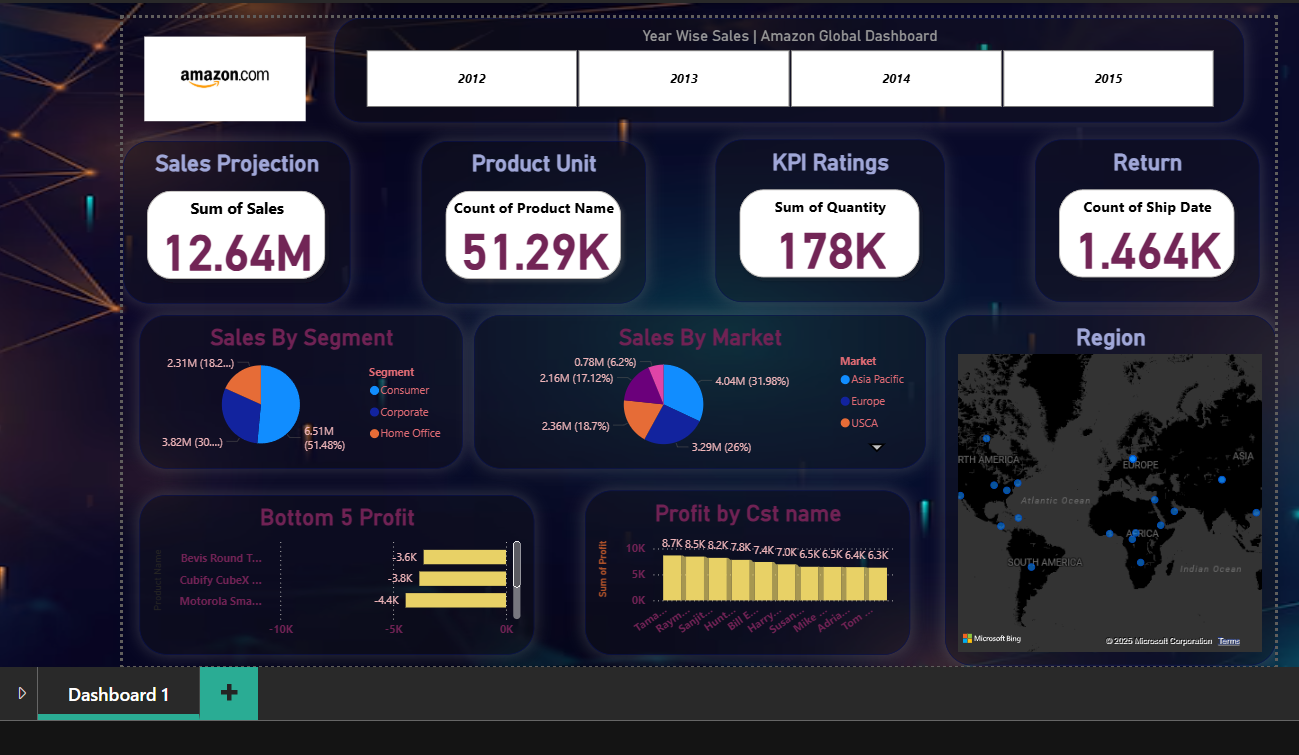

The dashboard page shown, as its layout file describes it:
{"tool":"powerbi","page":{"name":"Dashboard 1","canvas":[1280,720],"ordinal":0},"visuals":[{"type":"slicer","title":"Year Wise Sales | Amazon Global Dashboard ","fields":{"Values":["Orders.Year"]},"box":[235.1,0,1010.5,115.8],"z":0},{"type":"cardVisual","title":"Product Unit","fields":{"Data":["Orders.Product Name"]},"box":[331.6,136.8,249.1,180.7],"z":1000},{"type":"image","box":[17.5,0,189.5,135.1],"z":2000},{"type":"cardVisual","title":"Sales Projection","fields":{"Data":["Orders.Sales"]},"box":[0,136.8,252.6,180.7],"z":3000},{"type":"cardVisual","title":"Return","fields":{"Data":["Orders.Ship Date"]},"box":[1014,135.1,249.1,180.7],"z":4000},{"type":"cardVisual","title":"KPI Ratings","fields":{"Data":["Orders.Quantity"]},"box":[657.9,135.1,254.4,180.7],"z":5000},{"type":"pieChart","title":"Sales By Segment","fields":{"Category":["Orders.Segment"],"Y":["Orders.Sales"]},"box":[18.2,329.6,359.5,170.6],"z":6000},{"type":"pieChart","title":"Sales By Market","fields":{"Category":["Orders.Market","Orders.Segment"],"Y":["Orders.Sales"]},"box":[389.3,329.6,501.9,170.6],"z":7000},{"type":"columnChart","title":"Profit by Cst name","fields":{"Category":["Orders.Customer Name"],"Y":["Orders.Profit"]},"box":[514,524.6,361.4,182.5],"z":8000},{"type":"clusteredBarChart","title":"Bottom 5 Profit","fields":{"Category":["Orders.Product Name"],"Y":["Orders.Profit"]},"box":[17.5,529.8,438.6,177.2],"z":9000},{"type":"map","fields":{"Category":["Orders.Region"]},"box":[912.7,329.6,367.7,389.3],"z":10000}]}

Visuals, with their boxes on the page's 1280x720 design canvas (x1, y1, x2, y2). These are canvas units, not pixel positions in the 1299x755 screenshot, which may show the page scaled, cropped or inside an application window:
"Year Wise Sales | Amazon Global Dashboard " slicer: 235:0:1246:116
"Product Unit" cardVisual: 332:137:581:318
image: 18:0:207:135
"Sales Projection" cardVisual: 0:137:253:318
"Return" cardVisual: 1014:135:1263:316
"KPI Ratings" cardVisual: 658:135:912:316
"Sales By Segment" pieChart: 18:330:378:500
"Sales By Market" pieChart: 389:330:891:500
"Profit by Cst name" columnChart: 514:525:875:707
"Bottom 5 Profit" clusteredBarChart: 18:530:456:707
map - Orders.Region: 913:330:1280:719
